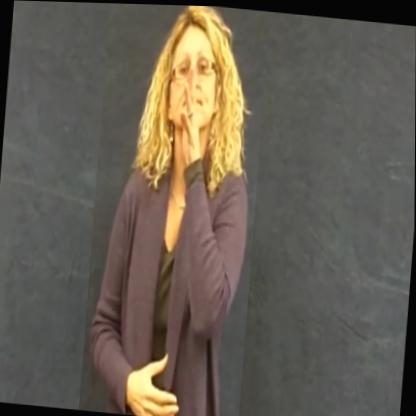Talk: (80, 2, 270, 416)
